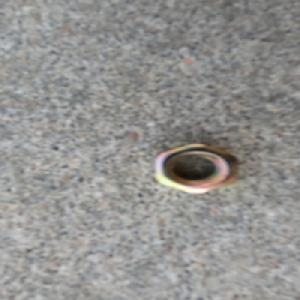Nut: (150, 142, 240, 196)
